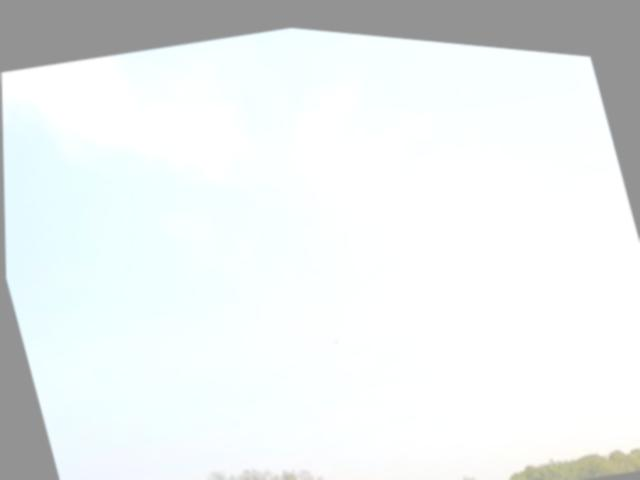iha: (332, 330, 338, 339)
